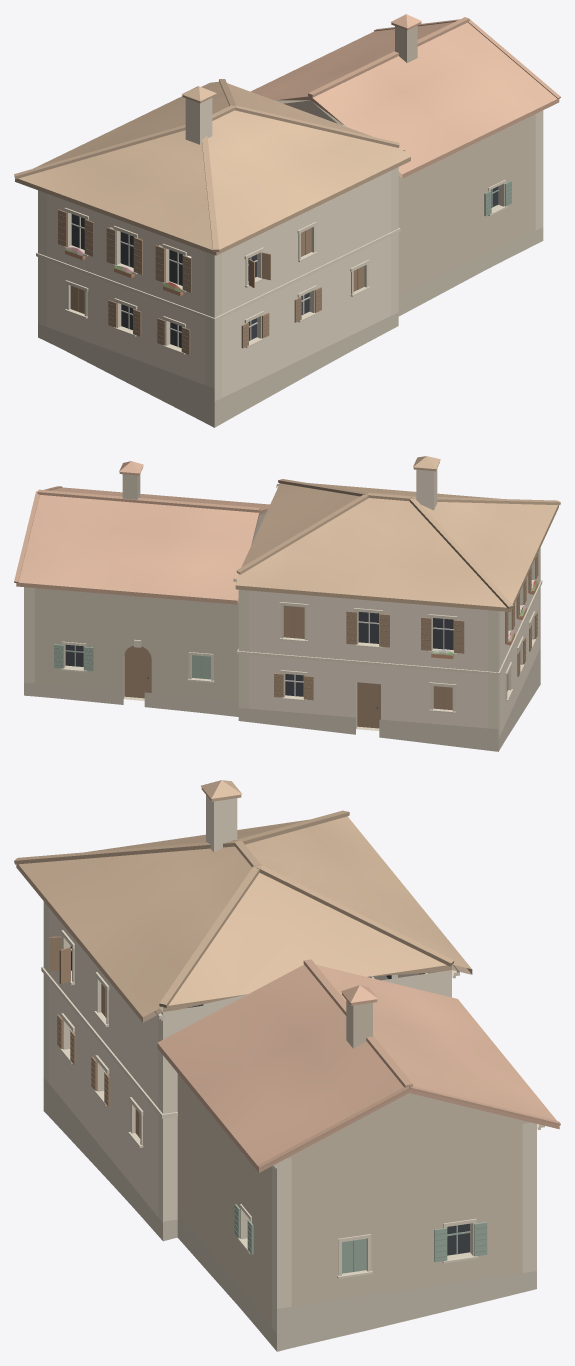
The model's file is SM_BM_BVV_Farm_Levante.glb.
3 views of the same model, one above another, from view 1: azimuth 30°, elevation 25°; view 2: azimuth 150°, elevation 25°; view 3: azimuth 270°, elevation 25° (orthographic). The views are drawn at different scales.
Parts seen in each view (by area): view 1: SM_BM_BVV_Farm_Levante; view 2: SM_BM_BVV_Farm_Levante; view 3: SM_BM_BVV_Farm_Levante.
Part boxes in pixels (<box>): SM_BM_BVV_Farm_Levante: <box>14,14,560,427</box>; SM_BM_BVV_Farm_Levante: <box>14,456,560,751</box>; SM_BM_BVV_Farm_Levante: <box>14,780,560,1351</box>.
Size of the model in its own units: 25.4 by 13.16 by 17.9.
